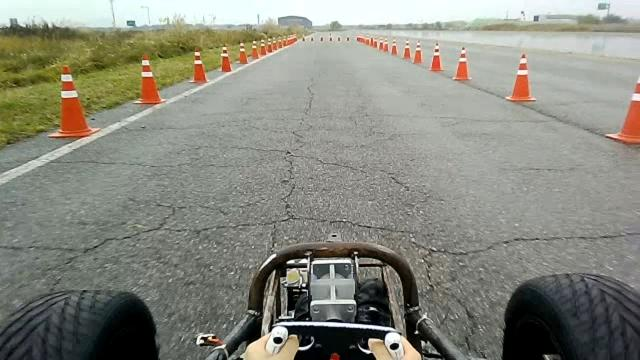red cone: (47, 64, 101, 138), (605, 76, 639, 144), (133, 54, 166, 104), (505, 52, 537, 102), (188, 46, 208, 84), (452, 46, 472, 80), (428, 41, 444, 71), (219, 44, 232, 72), (236, 40, 248, 64), (412, 39, 423, 64), (402, 38, 412, 60), (250, 39, 260, 59), (390, 37, 398, 56)
